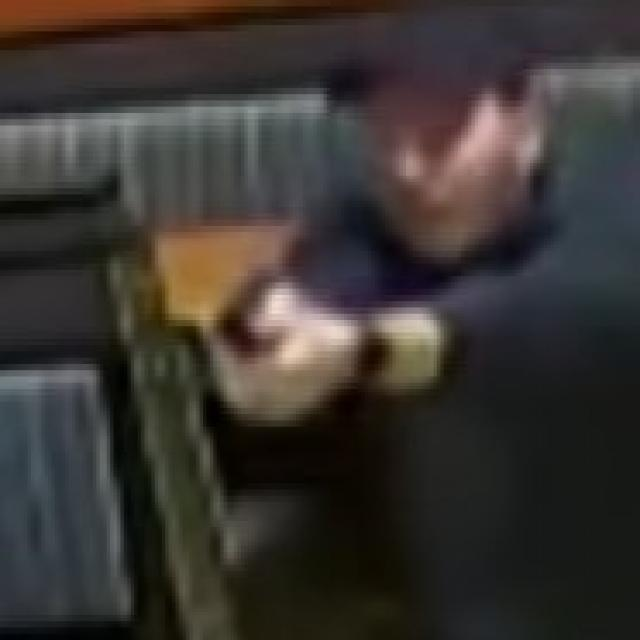gun: (214, 262, 321, 419)
